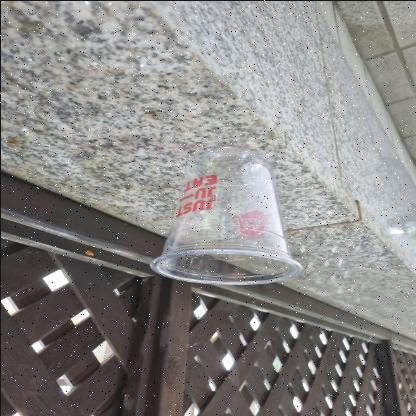Others: (148, 148, 304, 286)
